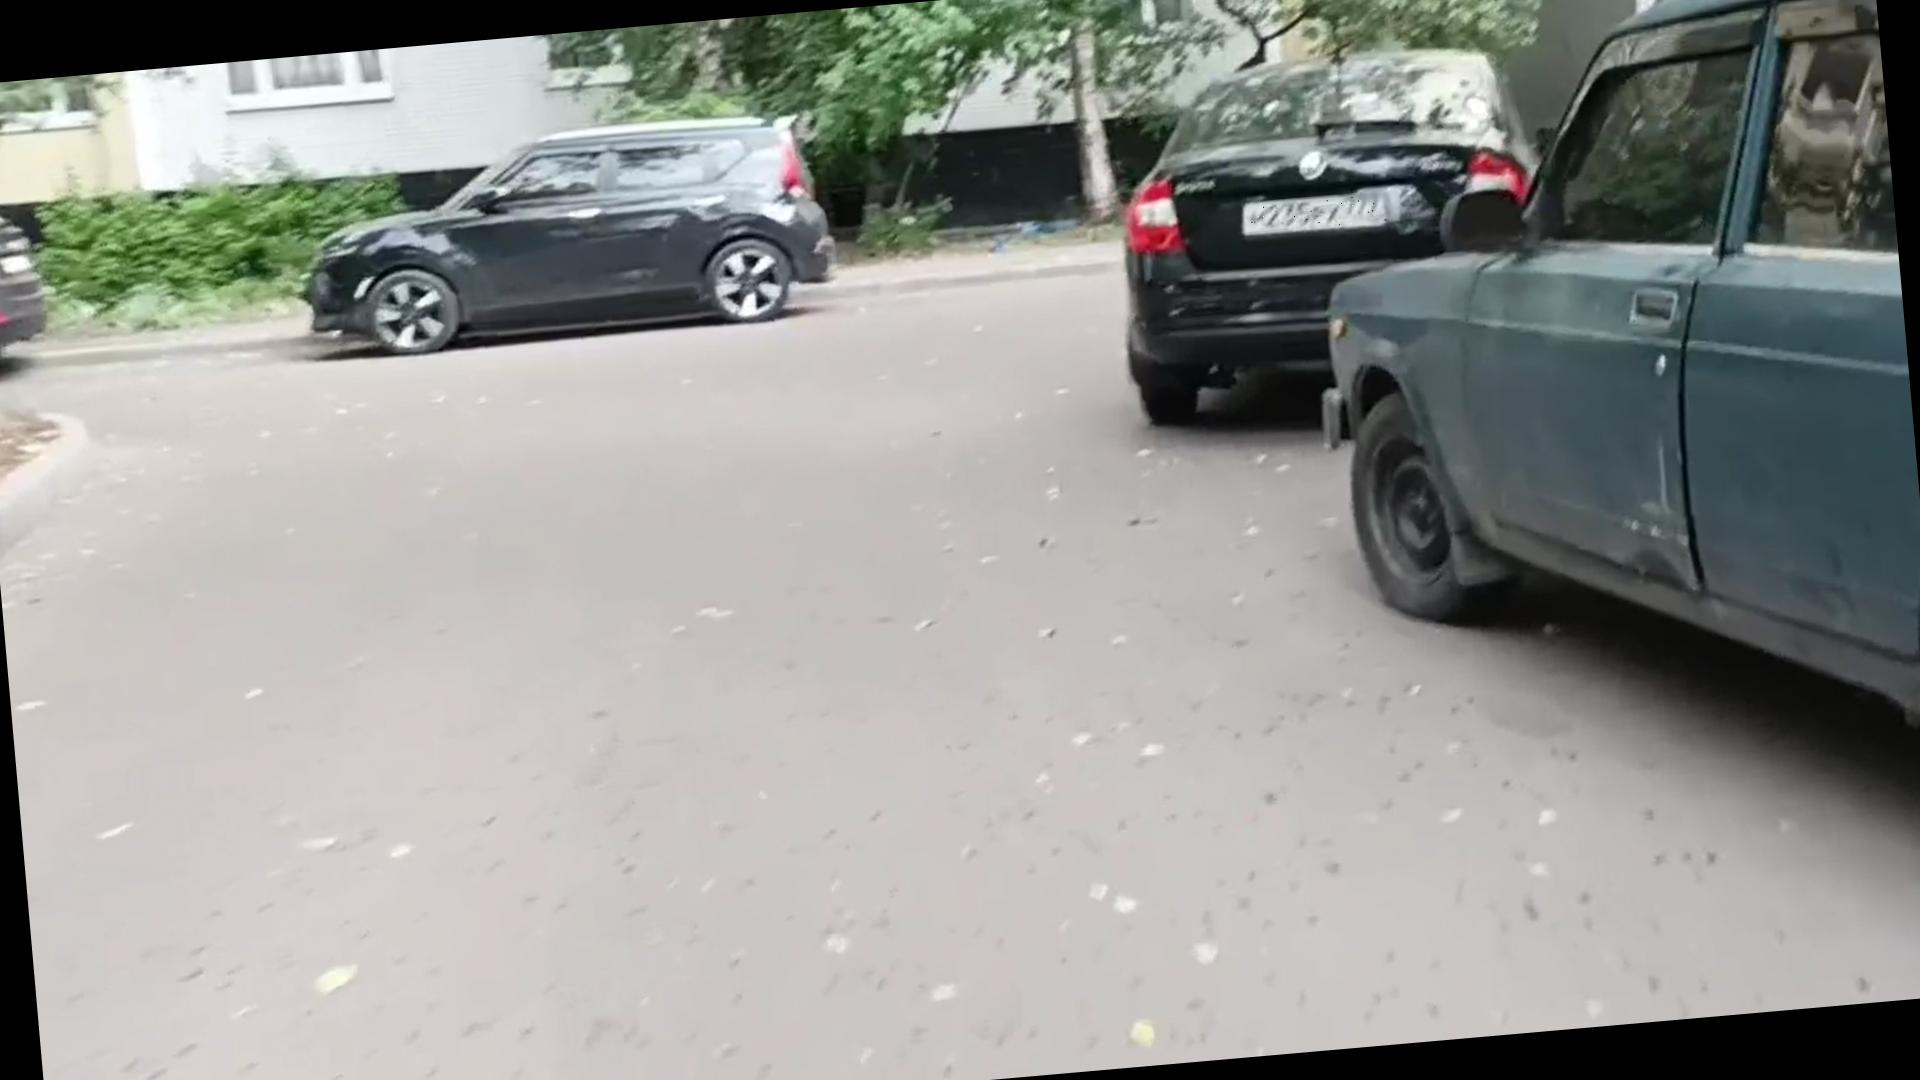plate: (1238, 191, 1391, 235)
